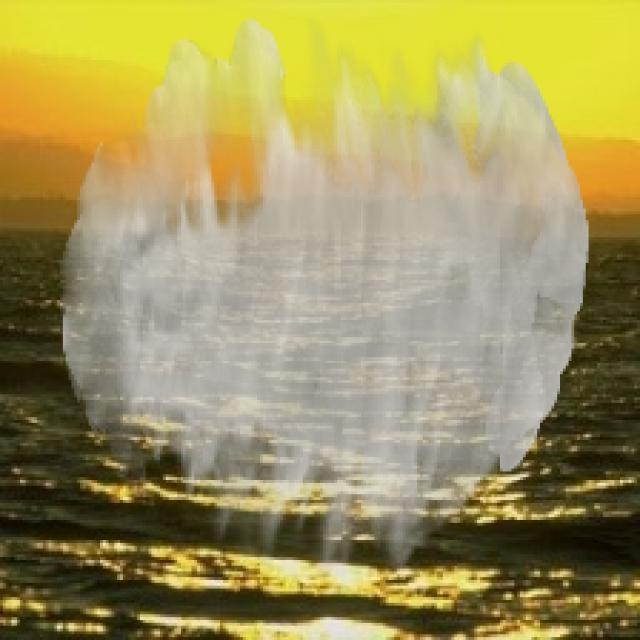smoke: (60, 17, 589, 574)
